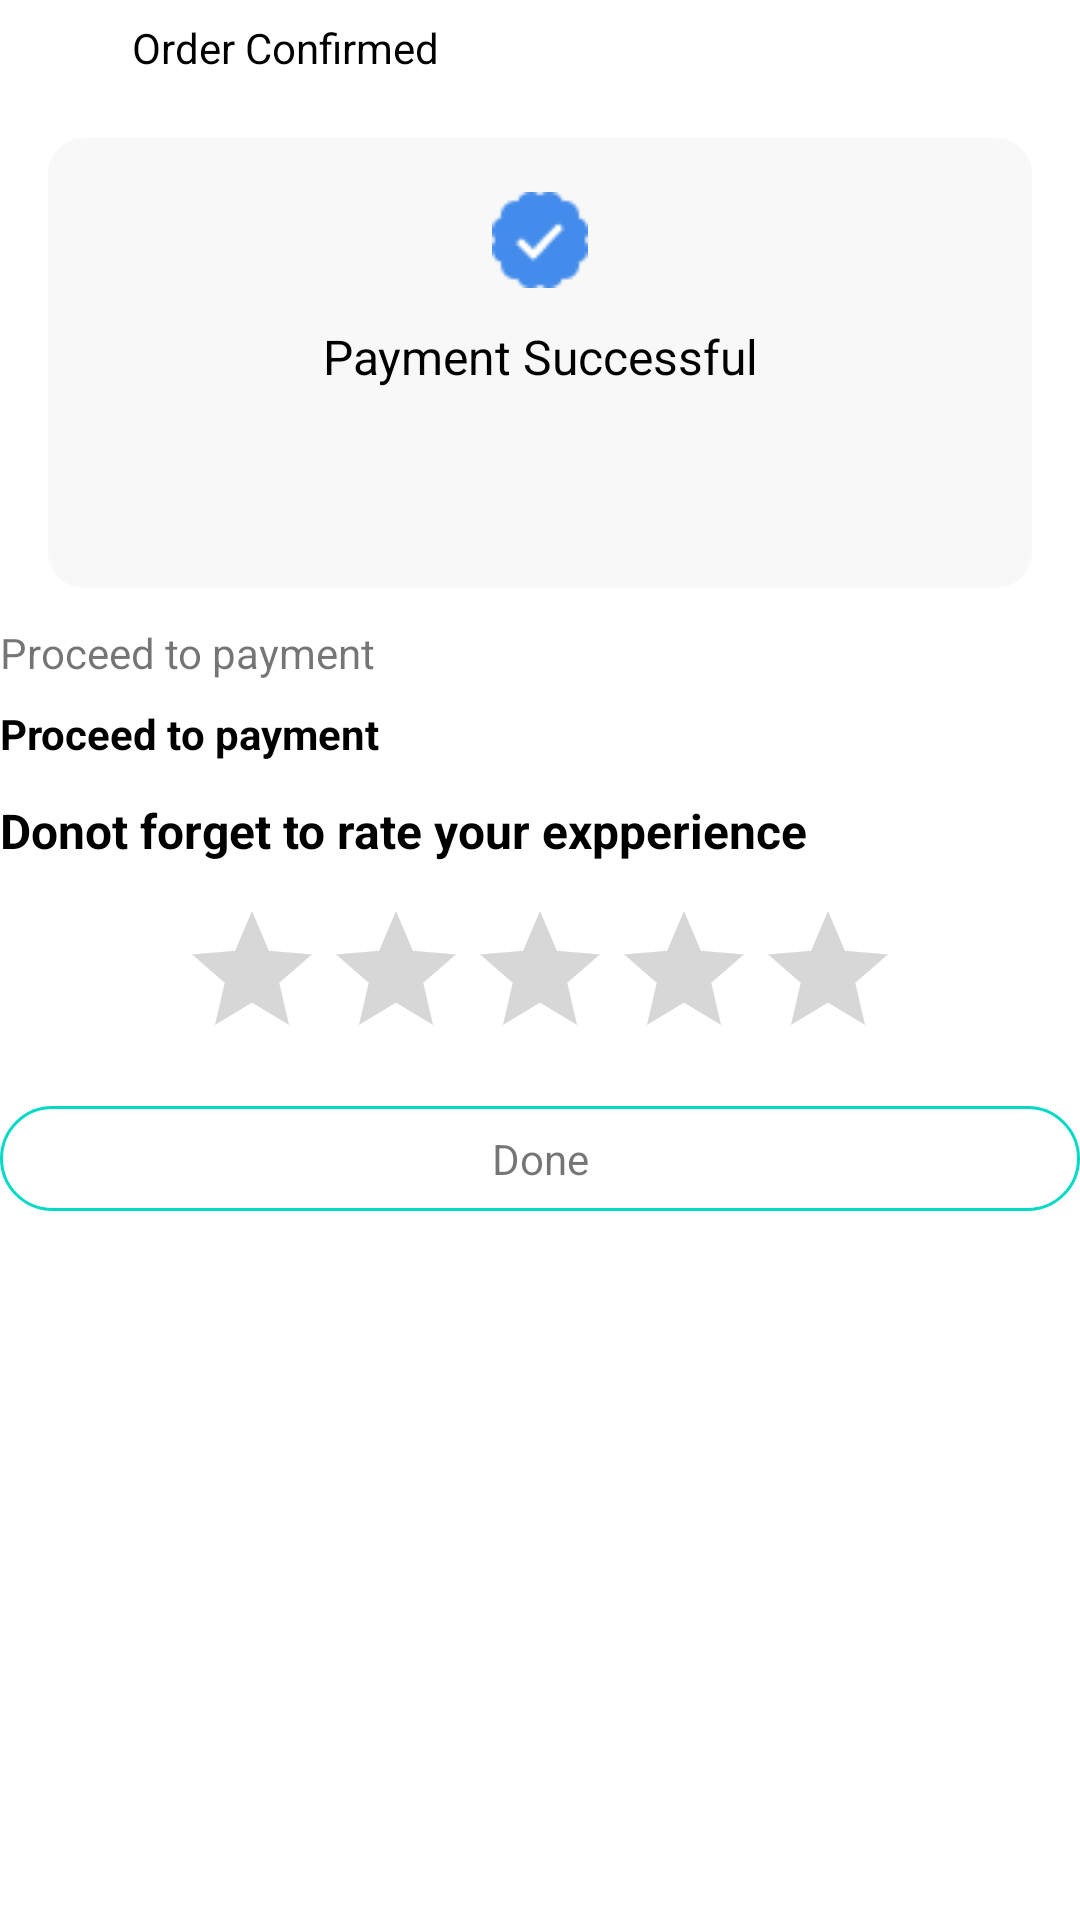

Icon bounding boxes for this 1080 × 1920 phone screenshot, format (x1, y1, x2, y2):
successmark: (492, 192, 588, 288)
